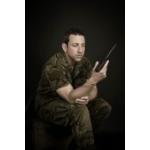Pistol: (94, 42, 116, 72)
